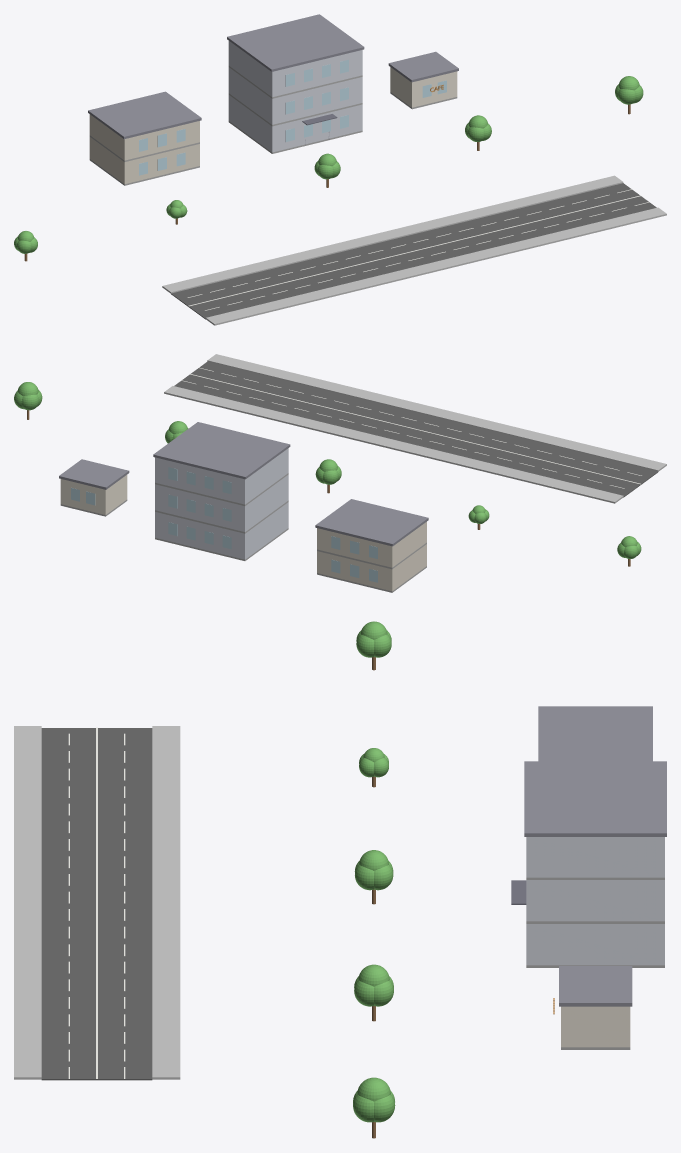
Rendered from city_block.gltf.
3 views of the same model, one above another, from view 1: azimuth 30°, elevation 25°; view 2: azimuth 150°, elevation 25°; view 3: azimuth 270°, elevation 25° (orthographic). The views are drawn at different scales.
Visible parts, largest first — view 1: Road_Surface, Sidewalk_-5.0, Sidewalk_5.0, Office_1_Roof, Apartment_1_Roof, Floor_2_Wall_Front.001, Floor_3_Wall_Front, Floor_1_Wall_Front.001, Floor_1_Wall_Front, Floor_2_Wall_Front, Cafe_Roof, Floor_1_Wall_Left.001 (+10 smaller); view 2: Road_Surface, Sidewalk_5.0, Sidewalk_-5.0, Office_1_Roof, Apartment_1_Roof, Floor_2_Wall_Back.001, Floor_1_Wall_Back.001, Floor_3_Wall_Back, Floor_1_Wall_Back, Floor_2_Wall_Back, Cafe_Roof, Floor_1_Wall_Left.001 (+10 smaller); view 3: Road_Surface, Office_1_Roof, Sidewalk_5.0, Sidewalk_-5.0, Apartment_1_Roof, Floor_1_Wall_Right.001, Floor_2_Wall_Right.001, Floor_3_Wall_Right, Cafe_Roof, Floor_1_Wall_Right.002, Tree_4, Tree_3 (+2 smaller).
Boxes of the visible parts, x1=… form: Road_Surface: x1=171, y1=183, x2=656, y2=319; Sidewalk_-5.0: x1=206, y1=207, x2=666, y2=325; Sidewalk_5.0: x1=162, y1=175, x2=623, y2=293; Office_1_Roof: x1=227, y1=14, x2=364, y2=71; Apartment_1_Roof: x1=88, y1=91, x2=201, y2=139; Floor_2_Wall_Front.001: x1=271, y1=77, x2=362, y2=124; Floor_3_Wall_Front: x1=271, y1=50, x2=362, y2=97; Floor_1_Wall_Front.001: x1=271, y1=104, x2=362, y2=152; Floor_1_Wall_Front: x1=124, y1=144, x2=199, y2=184; Floor_2_Wall_Front: x1=124, y1=121, x2=199, y2=160; Cafe_Roof: x1=388, y1=51, x2=458, y2=82; Floor_1_Wall_Left.001: x1=229, y1=95, x2=271, y2=151; Road_Surface: x1=174, y1=361, x2=657, y2=497; Sidewalk_5.0: x1=164, y1=386, x2=623, y2=503; Sidewalk_-5.0: x1=207, y1=354, x2=666, y2=471; Office_1_Roof: x1=153, y1=422, x2=290, y2=479; Apartment_1_Roof: x1=315, y1=499, x2=428, y2=546; Floor_2_Wall_Back.001: x1=155, y1=484, x2=245, y2=531; Floor_1_Wall_Back.001: x1=155, y1=512, x2=245, y2=559; Floor_3_Wall_Back: x1=155, y1=457, x2=245, y2=504; Floor_1_Wall_Back: x1=317, y1=551, x2=392, y2=591; Floor_2_Wall_Back: x1=317, y1=528, x2=392, y2=567; Cafe_Roof: x1=59, y1=459, x2=129, y2=489; Floor_1_Wall_Left.001: x1=245, y1=502, x2=287, y2=558; Road_Surface: x1=41, y1=728, x2=152, y2=1080; Office_1_Roof: x1=524, y1=761, x2=666, y2=836; Sidewalk_5.0: x1=152, y1=726, x2=180, y2=1079; Sidewalk_-5.0: x1=14, y1=726, x2=41, y2=1079; Apartment_1_Roof: x1=538, y1=706, x2=652, y2=761; Floor_1_Wall_Right.001: x1=528, y1=924, x2=662, y2=965; Floor_2_Wall_Right.001: x1=528, y1=880, x2=662, y2=921; Floor_3_Wall_Right: x1=528, y1=837, x2=662, y2=877; Cafe_Roof: x1=559, y1=966, x2=632, y2=1006; Floor_1_Wall_Right.002: x1=563, y1=1006, x2=628, y2=1047; Tree_4: x1=353, y1=1077, x2=395, y2=1122; Tree_3: x1=354, y1=964, x2=393, y2=1006.
Size of the model in its own units: 82.8 by 10.9 by 47.15.
